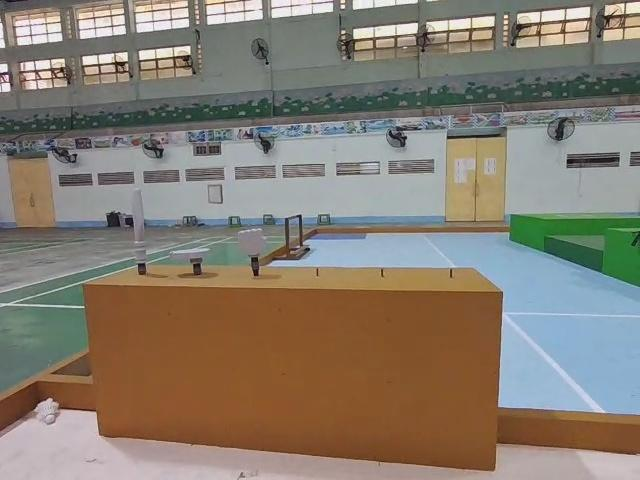Fist: (236, 226, 266, 277)
Hand: (173, 246, 213, 278)
Sph: (130, 189, 151, 276)
